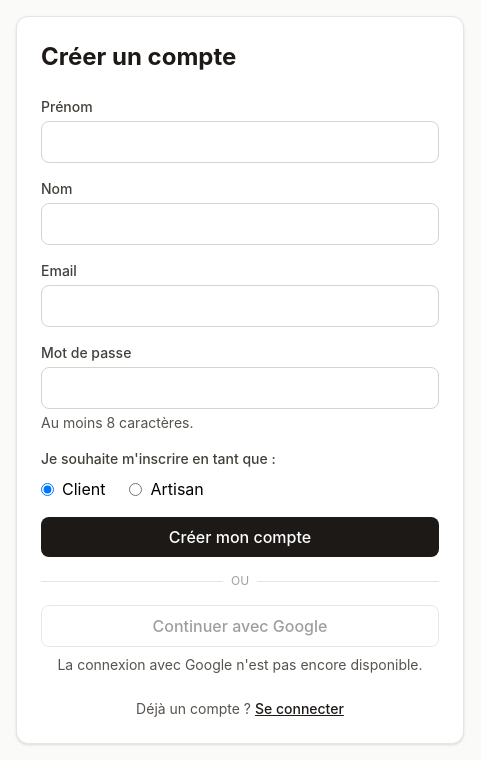
Scenario: RegisterPage › displays a generic message for other API errors
The image size is (481, 768).
Type " Alice " into the field labelled "Prénom".
click(240, 142); type(" Alice ")  # box x1=41 y1=121 x2=439 y2=163
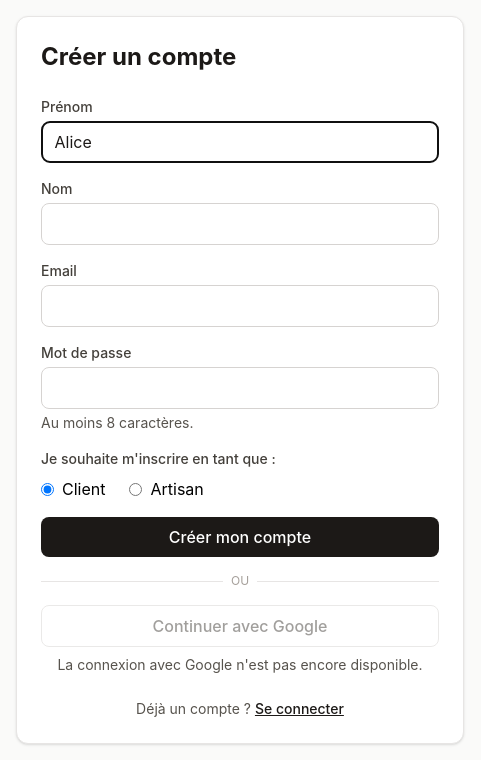
Type " Martin " into the field labelled "Nom".
click(240, 224); type(" Martin ")  # box x1=41 y1=203 x2=439 y2=245
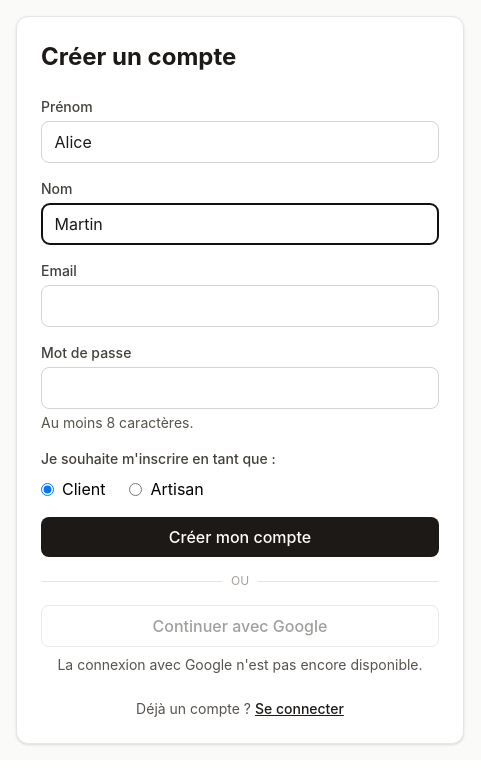
Type "alice@example.fr" into the field labelled "Email".
click(240, 306); type("alice@example.fr")  # box x1=41 y1=285 x2=439 y2=327
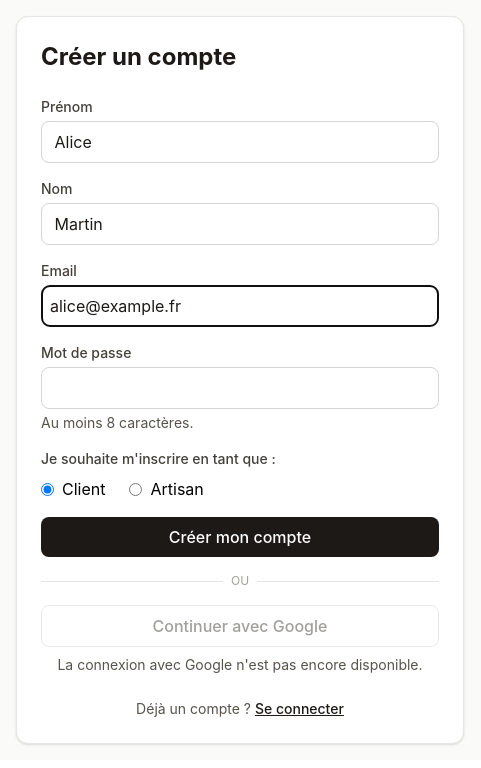
Type "12345678" into the password field labelled "Mot de passe".
click(240, 388); type("12345678")  # box x1=41 y1=367 x2=439 y2=409
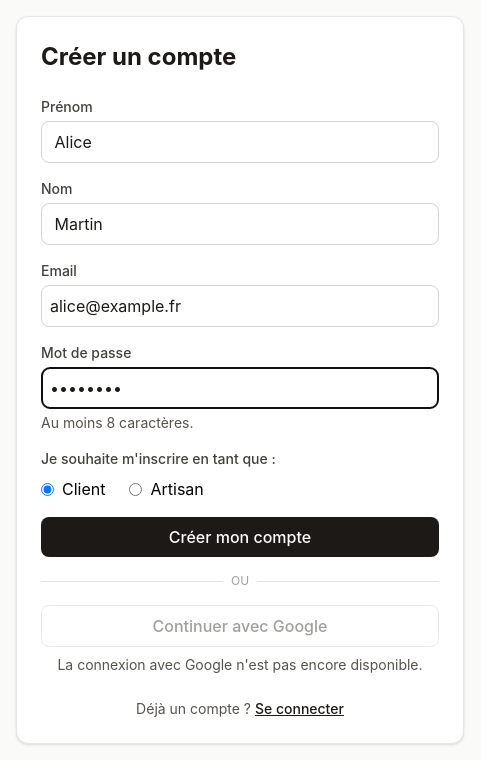
Click the button "Créer mon compte".
click(240, 537)  # box x1=41 y1=517 x2=439 y2=557
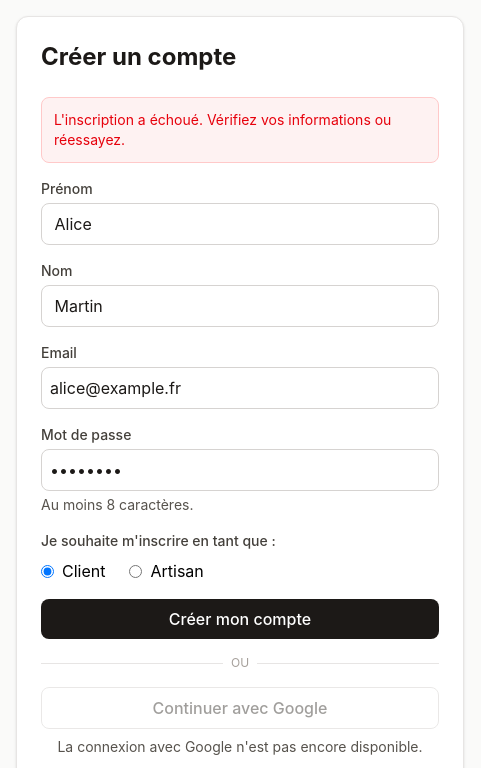
Expected: the message does not show "private details", x1=41 y1=97 x2=439 y2=163
Expected: the message shows "L'inscription a échoué", x1=54 y1=111 x2=391 y2=148
